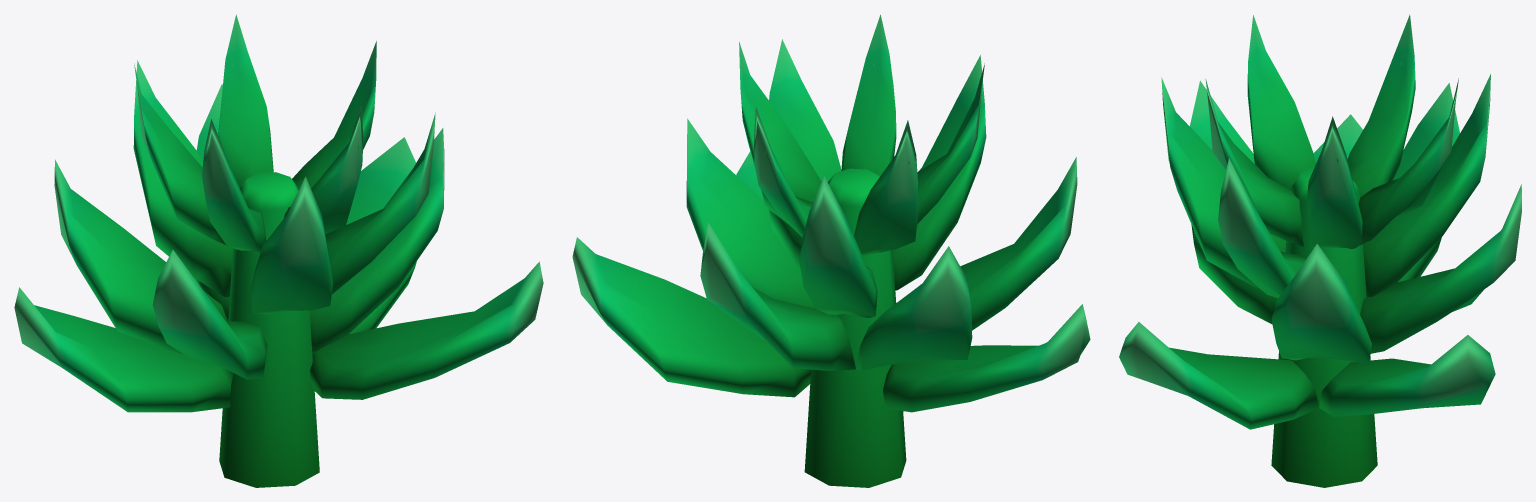
The model's file is Plant_006.fbx.
3 views of the same model, side by side, from view 1: azimuth 30°, elevation 25°; view 2: azimuth 150°, elevation 25°; view 3: azimuth 270°, elevation 25° (orthographic). The views are drawn at different scales.
Parts seen in each view (by area): view 1: Plant_006; view 2: Plant_006; view 3: Plant_006.
Boxes of the visible parts, x1,y1,x2,y2 form: Plant_006: (14, 14, 543, 487); Plant_006: (572, 14, 1090, 487); Plant_006: (1119, 14, 1521, 487).
Size of the model in its own units: 31.66 by 23.98 by 26.58.
